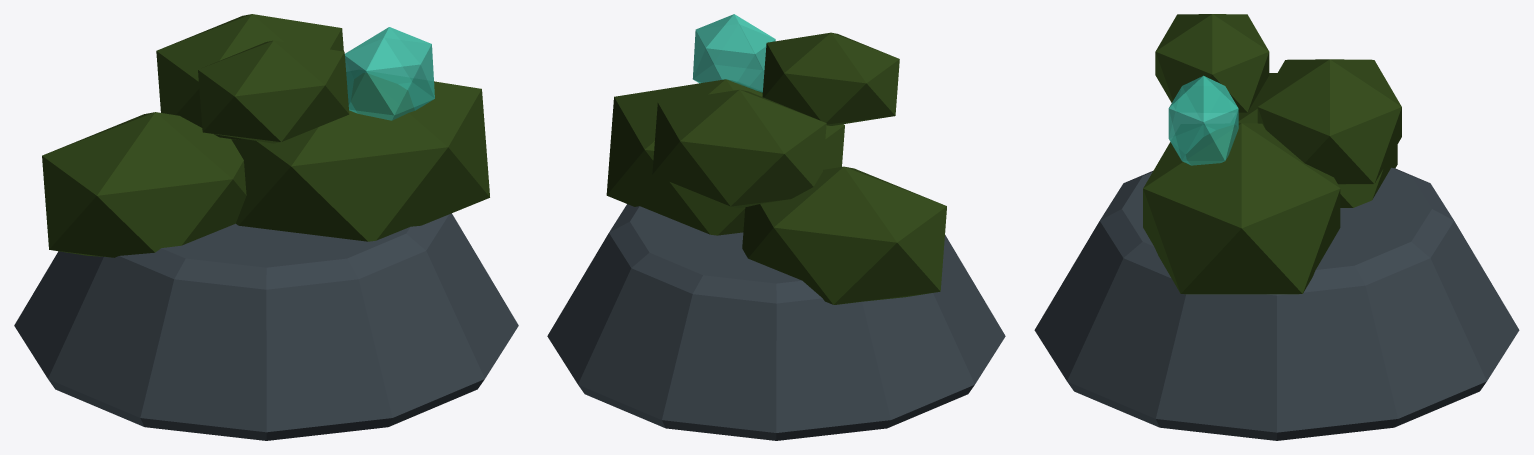
The model's file is sludge.obj.
3 views of the same model, side by side, from view 1: azimuth 30°, elevation 25°; view 2: azimuth 150°, elevation 25°; view 3: azimuth 270°, elevation 25° (orthographic). The views are drawn at different scales.
Parts seen in each view (by area): view 1: Bowl.002_MAT_Iron, Food_Lump1.002_MAT_Sludge, Food_Lump0.002_MAT_Sludge, Food_Lump3.002_MAT_Sludge, Food_Lump2.002_MAT_Sludge, Sludge_Bubble.001_MAT_Ectoplasm; view 2: Bowl.002_MAT_Iron, Food_Lump0.002_MAT_Sludge, Food_Lump2.002_MAT_Sludge, Food_Lump1.002_MAT_Sludge, Food_Lump3.002_MAT_Sludge, Sludge_Bubble.001_MAT_Ectoplasm; view 3: Bowl.002_MAT_Iron, Food_Lump1.002_MAT_Sludge, Food_Lump2.002_MAT_Sludge, Food_Lump3.002_MAT_Sludge, Sludge_Bubble.001_MAT_Ectoplasm, Food_Lump0.002_MAT_Sludge.
Part boxes in pixels (x1=…): Bowl.002_MAT_Iron: x1=14, y1=213, x2=518, y2=440; Food_Lump1.002_MAT_Sludge: x1=231, y1=73, x2=489, y2=241; Food_Lump0.002_MAT_Sludge: x1=42, y1=112, x2=246, y2=257; Food_Lump3.002_MAT_Sludge: x1=198, y1=40, x2=349, y2=143; Food_Lump2.002_MAT_Sludge: x1=156, y1=14, x2=343, y2=139; Sludge_Bubble.001_MAT_Ectoplasm: x1=345, y1=27, x2=434, y2=120; Bowl.002_MAT_Iron: x1=547, y1=204, x2=1005, y2=440; Food_Lump0.002_MAT_Sludge: x1=742, y1=166, x2=946, y2=304; Food_Lump2.002_MAT_Sludge: x1=652, y1=89, x2=826, y2=207; Food_Lump1.002_MAT_Sludge: x1=606, y1=79, x2=844, y2=235; Food_Lump3.002_MAT_Sludge: x1=762, y1=32, x2=899, y2=125; Sludge_Bubble.001_MAT_Ectoplasm: x1=692, y1=14, x2=775, y2=92; Bowl.002_MAT_Iron: x1=1034, y1=167, x2=1519, y2=440; Food_Lump1.002_MAT_Sludge: x1=1143, y1=123, x2=1340, y2=294; Food_Lump2.002_MAT_Sludge: x1=1257, y1=59, x2=1401, y2=184; Food_Lump3.002_MAT_Sludge: x1=1155, y1=14, x2=1269, y2=112; Sludge_Bubble.001_MAT_Ectoplasm: x1=1168, y1=75, x2=1238, y2=165; Food_Lump0.002_MAT_Sludge: x1=1238, y1=73, x2=1397, y2=207.
Bounding box in the file's own units: 1.65 × 1.19 × 1.65.
